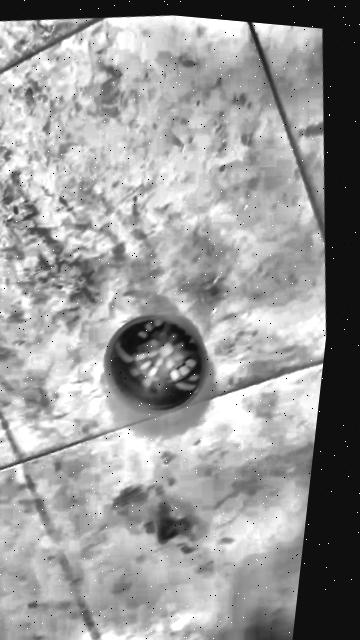pot: (94, 305, 221, 422)
